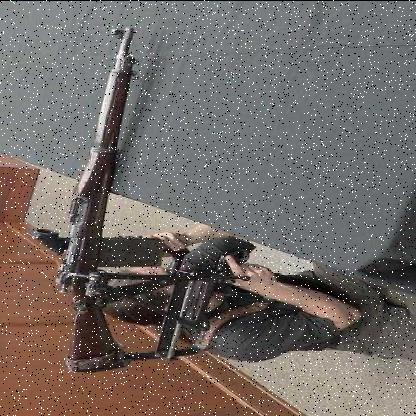rifle: (24, 24, 191, 379)
